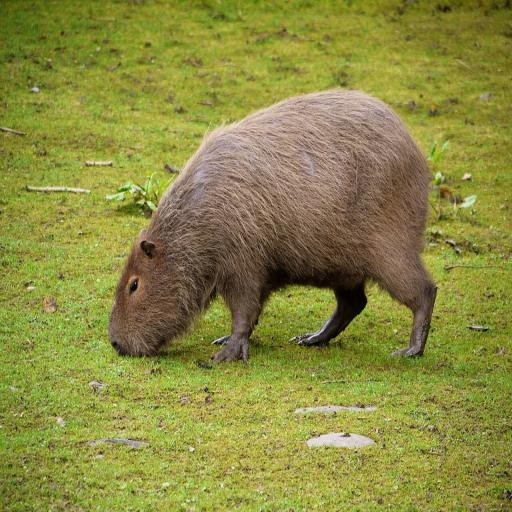capybara: (109, 91, 436, 362)
